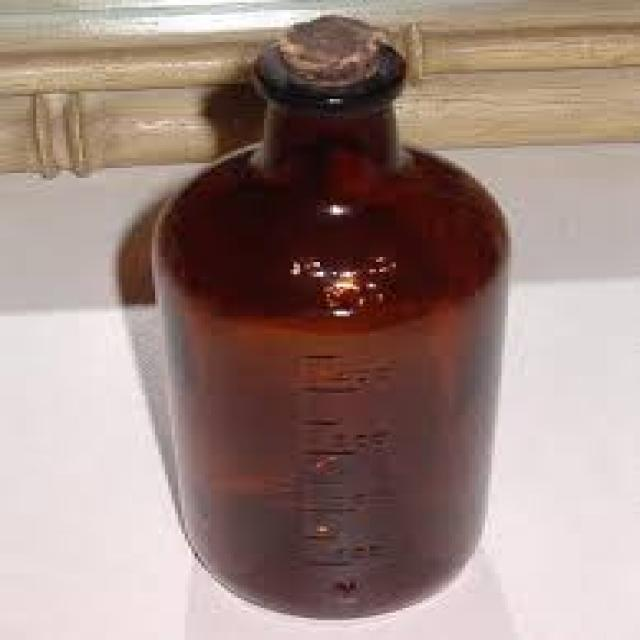glass: (145, 45, 511, 616)
